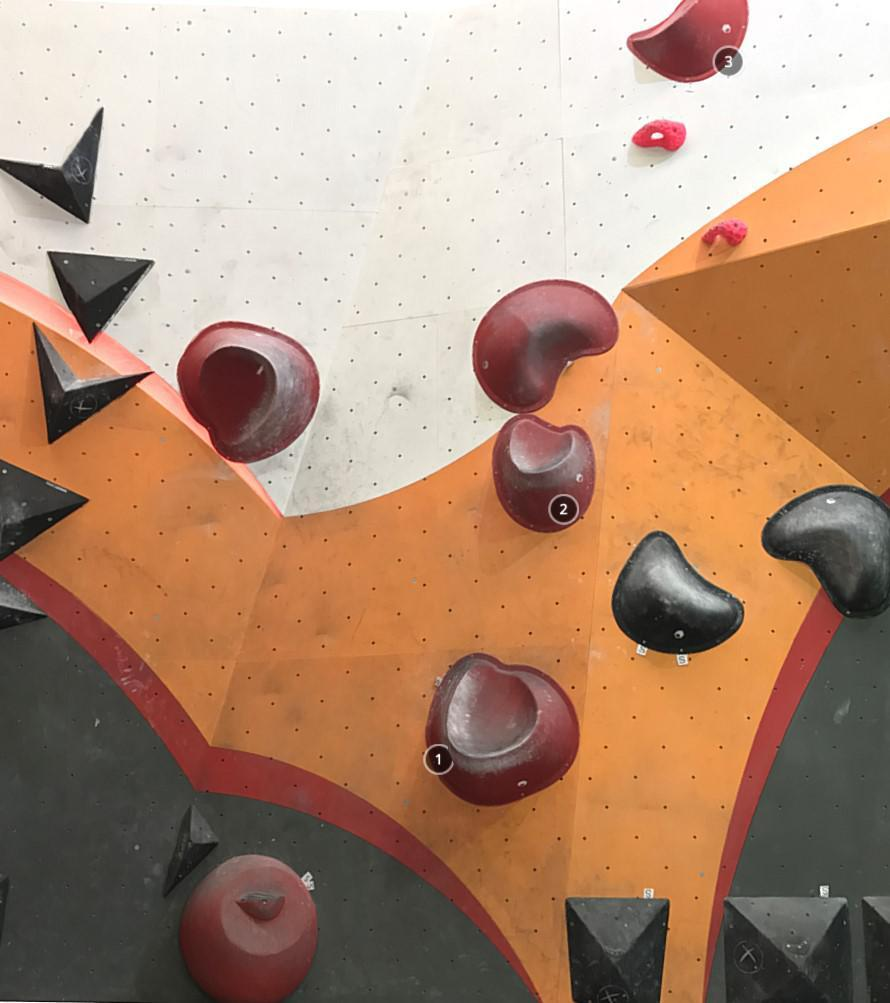hold: (425, 652, 580, 806), (178, 854, 318, 1003), (177, 322, 320, 463), (472, 279, 619, 414), (761, 484, 890, 619), (612, 531, 744, 653), (33, 322, 154, 444), (724, 896, 854, 1003), (492, 413, 595, 533), (0, 106, 104, 224), (565, 898, 670, 1003), (626, 0, 748, 82), (47, 251, 154, 343), (0, 459, 89, 561), (162, 803, 220, 898), (862, 896, 890, 1003), (0, 575, 48, 630), (631, 119, 686, 151), (234, 891, 285, 921), (701, 219, 748, 246), (0, 873, 9, 951)
